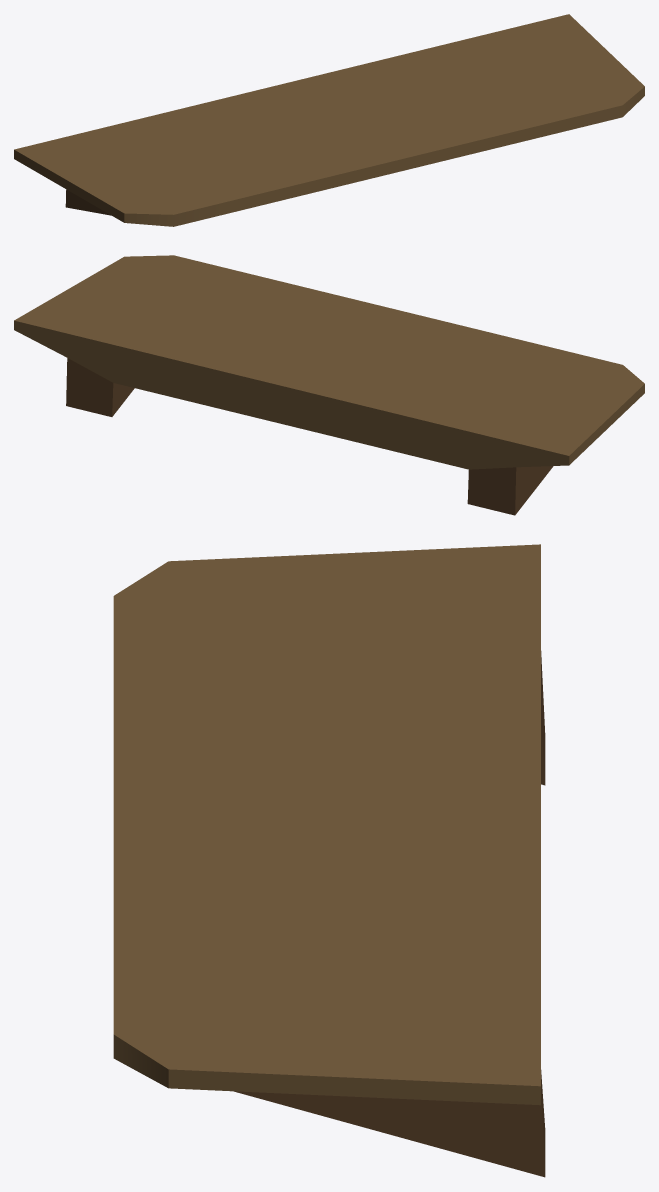
File: SM_WallShelf.fbx
The picture shows the model from 3 angles, top to bottom: view 1: azimuth 30°, elevation 25°; view 2: azimuth 150°, elevation 25°; view 3: azimuth 270°, elevation 25°; orthographic projection. The views are drawn at different scales.
Parts seen in each view (by area): view 1: wallshelf_GEO; view 2: wallshelf_GEO; view 3: wallshelf_GEO.
Part boxes in pixels (<box>): wallshelf_GEO: <box>14,14,644,226</box>; wallshelf_GEO: <box>14,255,644,515</box>; wallshelf_GEO: <box>113,544,545,1177</box>.
Bounding box in the file's own units: 60 × 7.4 × 20.22.
